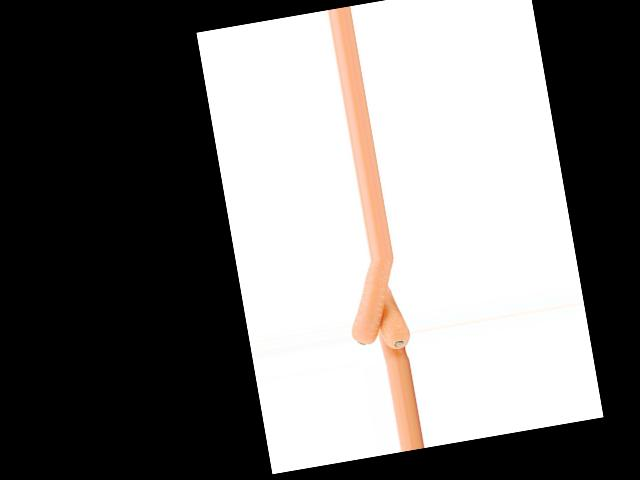carrot: (373, 280, 410, 355)
